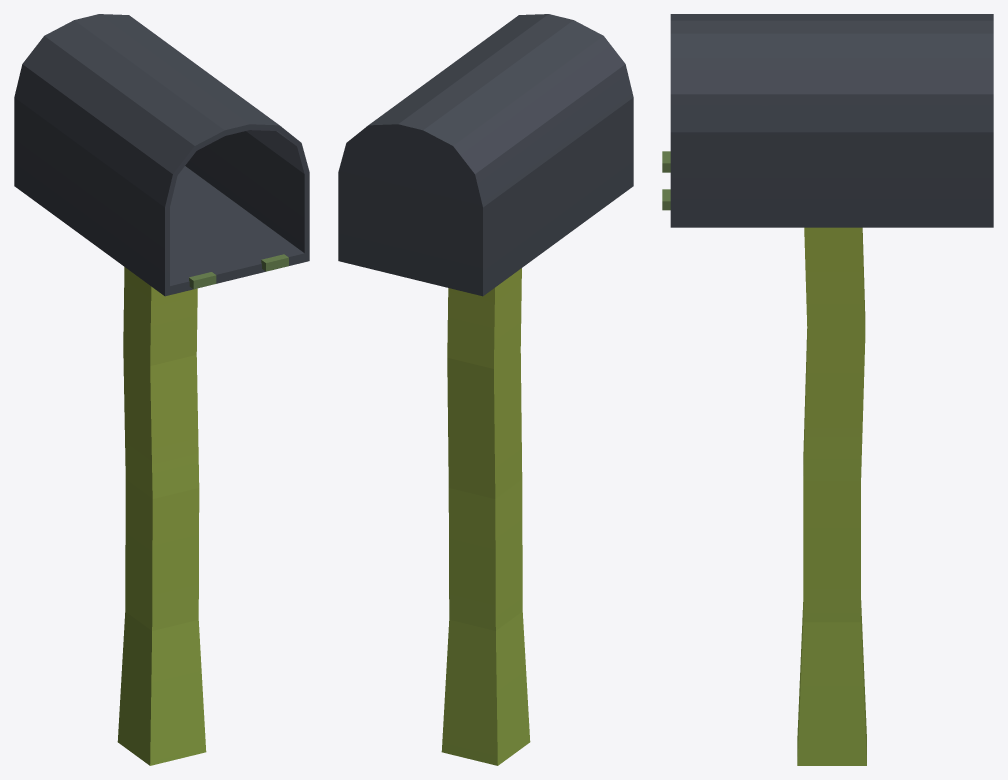
Rendered from Mailbox_05.fbx.
3 views of the same model, side by side, from view 1: azimuth 30°, elevation 25°; view 2: azimuth 150°, elevation 25°; view 3: azimuth 270°, elevation 25° (orthographic). The views are drawn at different scales.
Visible parts, largest first — view 1: Mailbox_05; view 2: Mailbox_05; view 3: Mailbox_05.
Part boxes in pixels (left/top/right/bottom): Mailbox_05: left=14, top=14, right=309, bottom=765; Mailbox_05: left=338, top=14, right=633, bottom=765; Mailbox_05: left=662, top=14, right=993, bottom=765.
Bounding box in the file's own units: 0.2398 × 1.07 × 0.4434.
